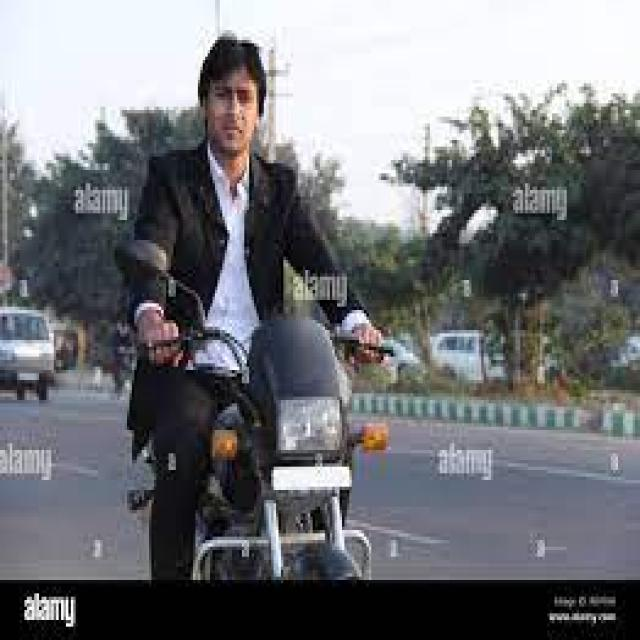Without Helmet: (197, 32, 273, 172)
licence: (270, 458, 358, 502)
